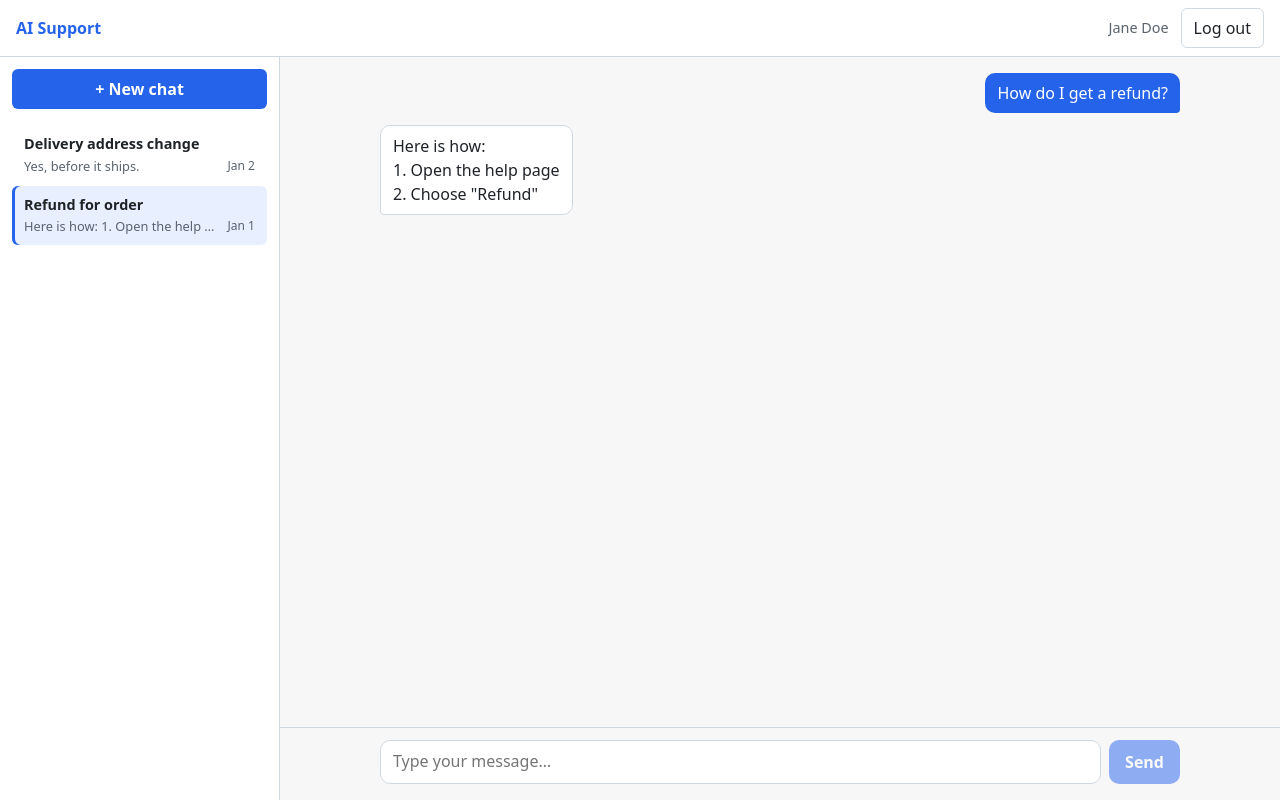
Test: Opening a conversation (UI-04, UI-03) › "New chat" goes back to the empty state
The image size is (1280, 800).
Check: the button "Log out" is shown, box x1=1181 y1=8 x2=1264 y2=48
Check: the text "How do I get a refund?" is shown, box x1=986 y1=73 x2=1180 y2=113
Click the link "+ New chat" at (140, 89), box x1=12 y1=69 x2=267 y2=109
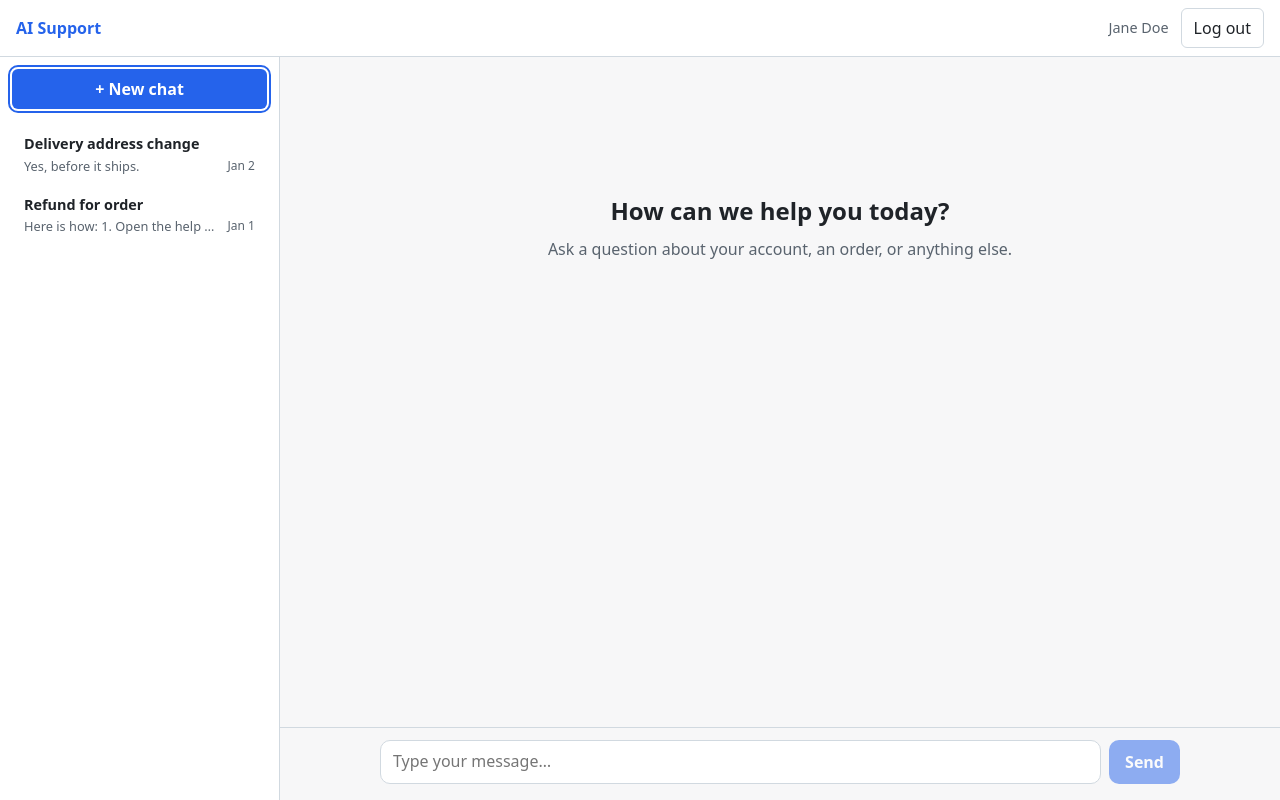
Check: the heading "How can we help you today?" is shown, box x1=610 y1=194 x2=950 y2=227
